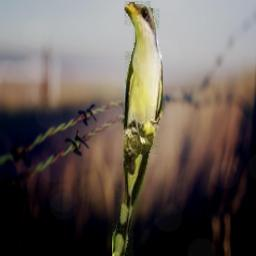Cuckoo: (112, 1, 163, 256)
